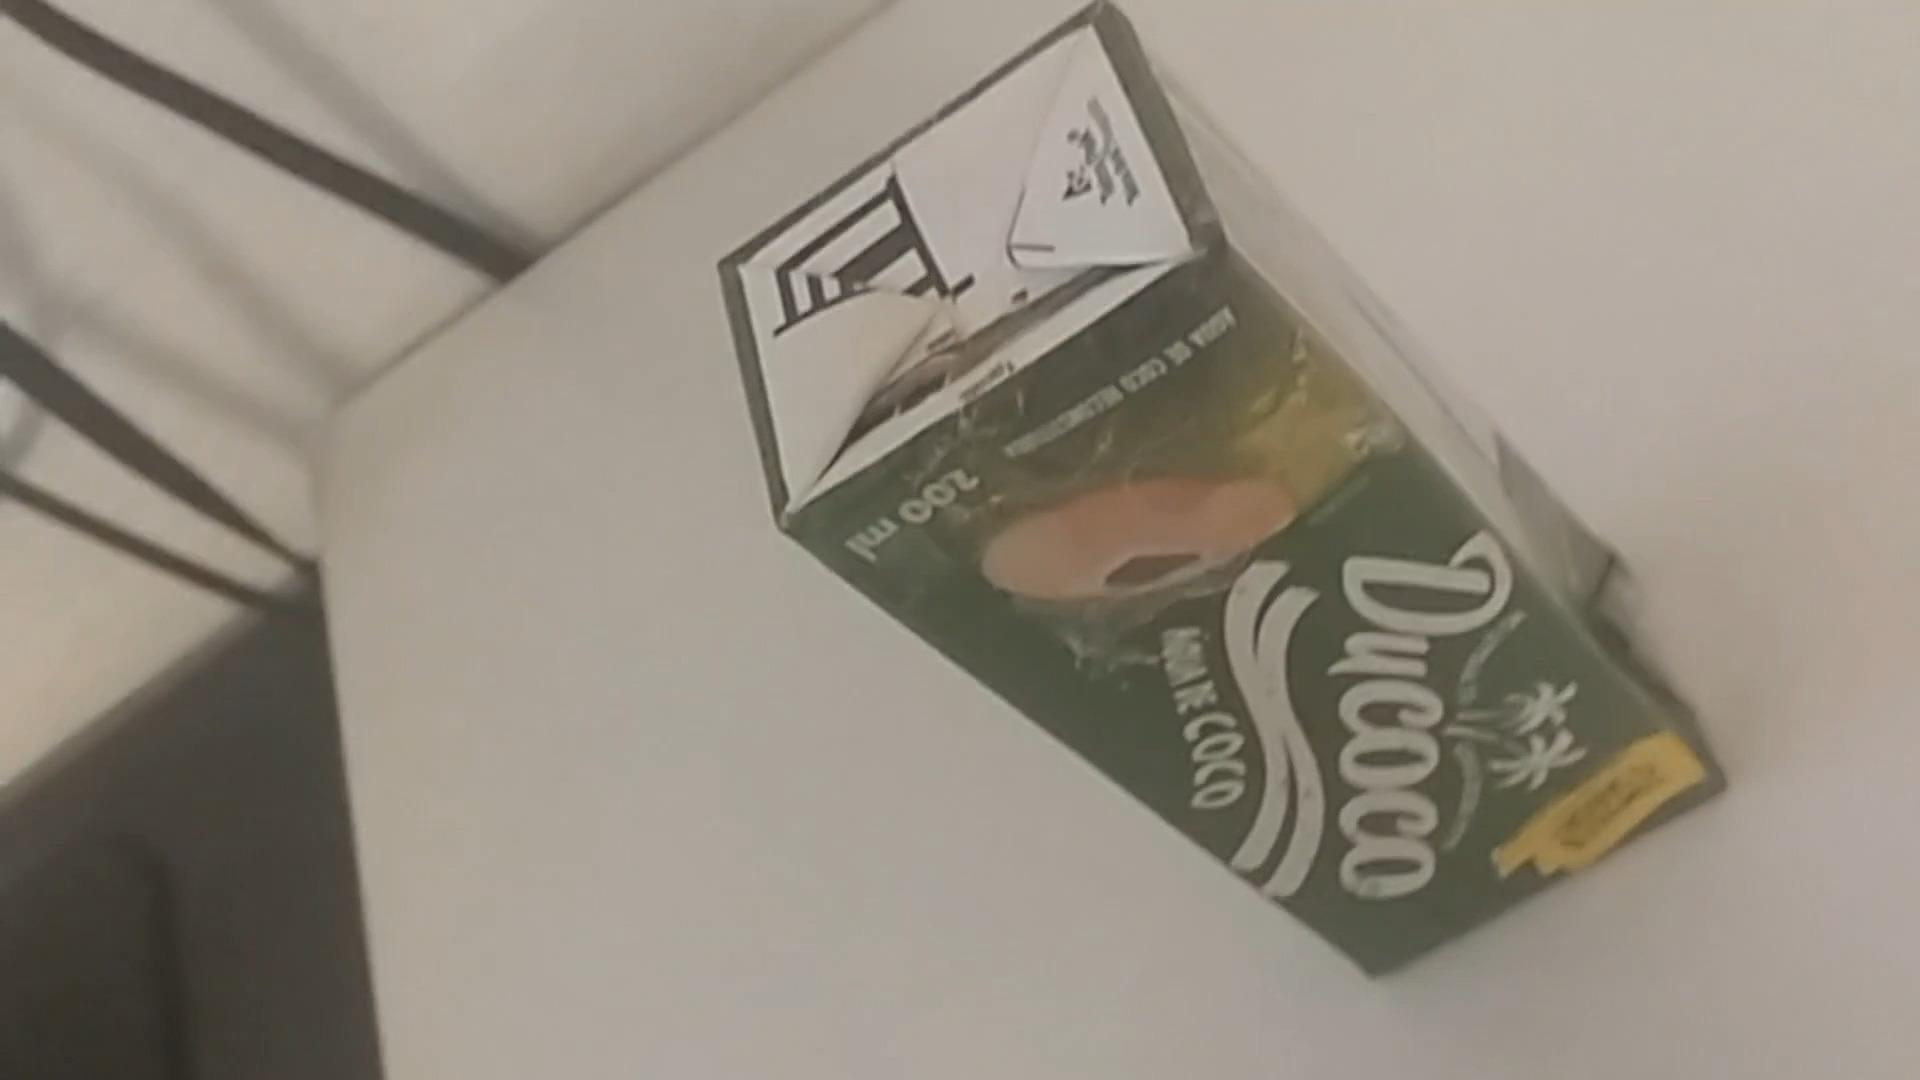coco: (725, 7, 1720, 986)
